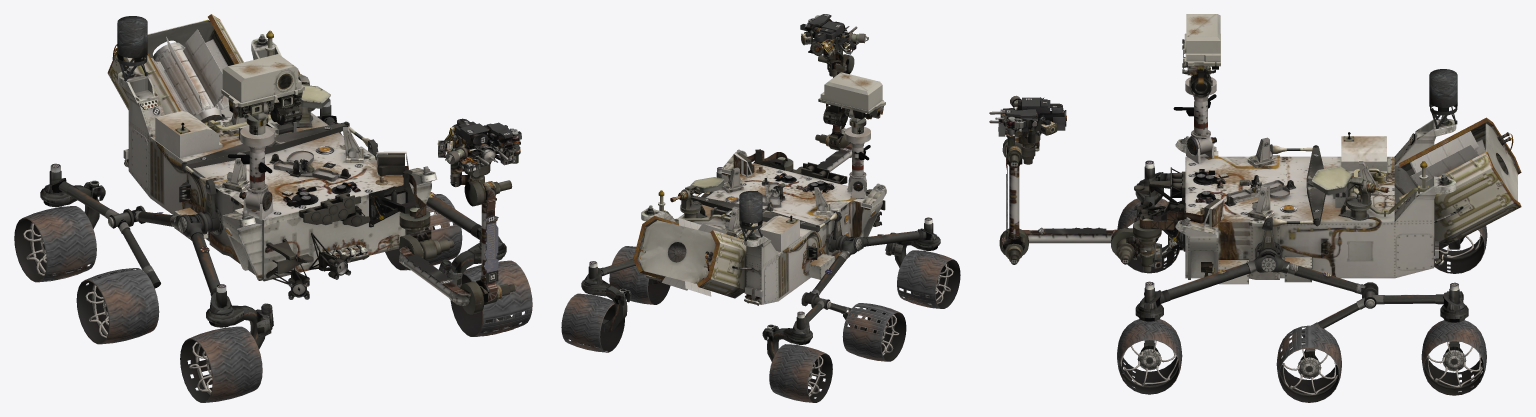
Rendered from rover.glb.
The picture shows the model from 3 angles, left to right: view 1: azimuth 30°, elevation 25°; view 2: azimuth 150°, elevation 25°; view 3: azimuth 270°, elevation 25°; orthographic projection. The views are drawn at different scales.
Parts seen in each view (by area): view 1: MSL; view 2: MSL; view 3: MSL.
Boxes of the visible parts, bbox=[...] form: MSL: bbox=[14, 14, 532, 402]; MSL: bbox=[561, 14, 960, 402]; MSL: bbox=[989, 14, 1521, 402].
Bounding box in the file's own units: 2.78 × 2.22 × 3.94.
9 materials, 8 textured.
